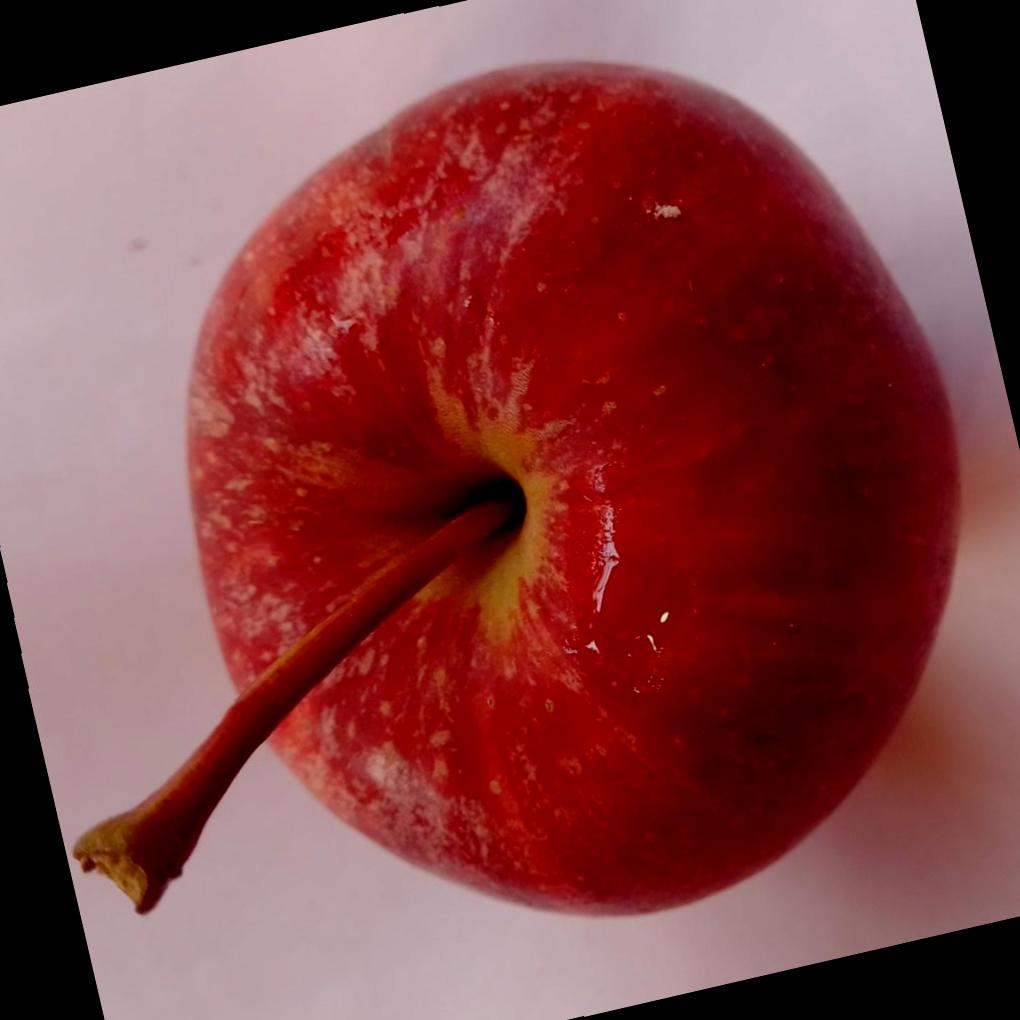FreshGuava: (76, 56, 966, 916)
